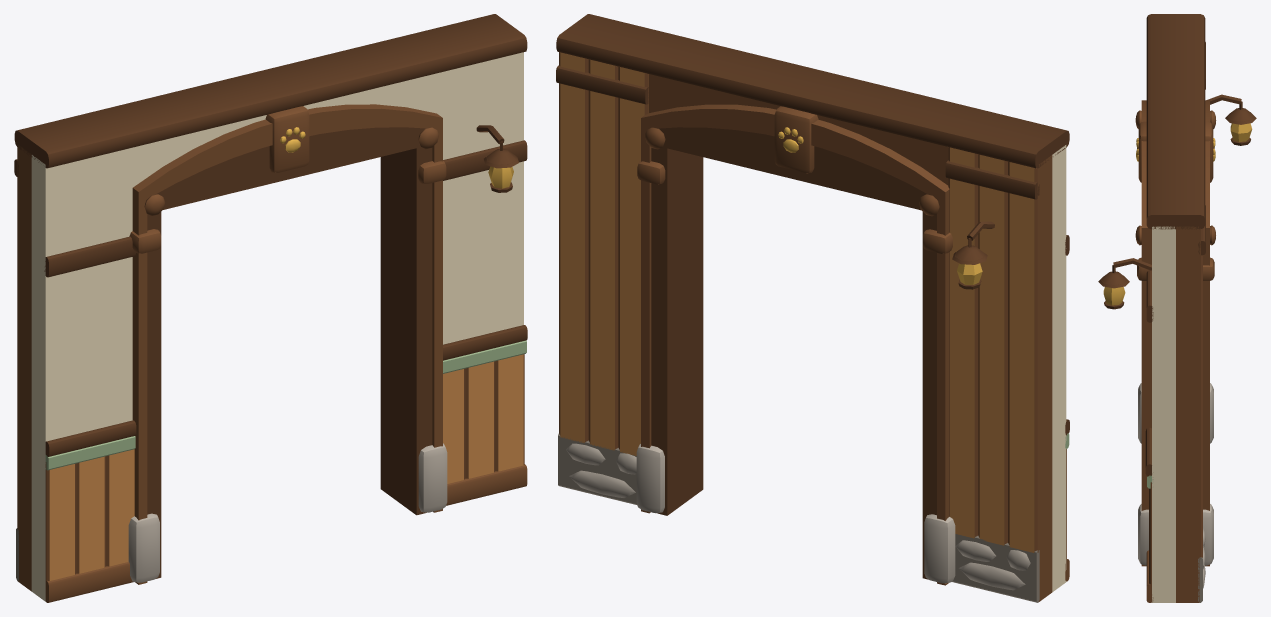
Rendered from ZoneKitWallDoor.fbx.
3 views of the same model, side by side, from view 1: azimuth 30°, elevation 25°; view 2: azimuth 150°, elevation 25°; view 3: azimuth 270°, elevation 25° (orthographic). The views are drawn at different scales.
Parts seen in each view (by area): view 1: ZoneKitWallDoor; view 2: ZoneKitWallDoor; view 3: ZoneKitWallDoor.
Boxes of the visible parts, x1=… form: ZoneKitWallDoor: x1=14, y1=14, x2=527, y2=602; ZoneKitWallDoor: x1=556, y1=14, x2=1069, y2=602; ZoneKitWallDoor: x1=1098, y1=14, x2=1256, y2=602.
Bounding box in the file's own units: 3 × 2.7 × 1.
